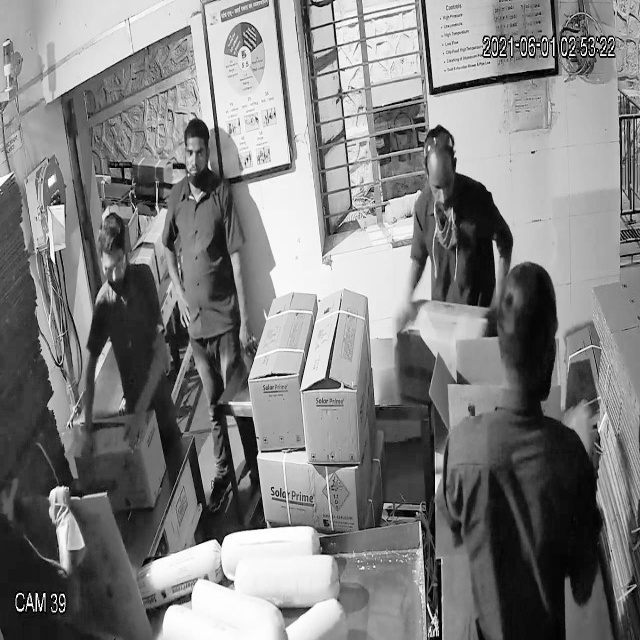Gafas: (97, 249, 134, 289)
Sin_gafas: (180, 132, 215, 176)
